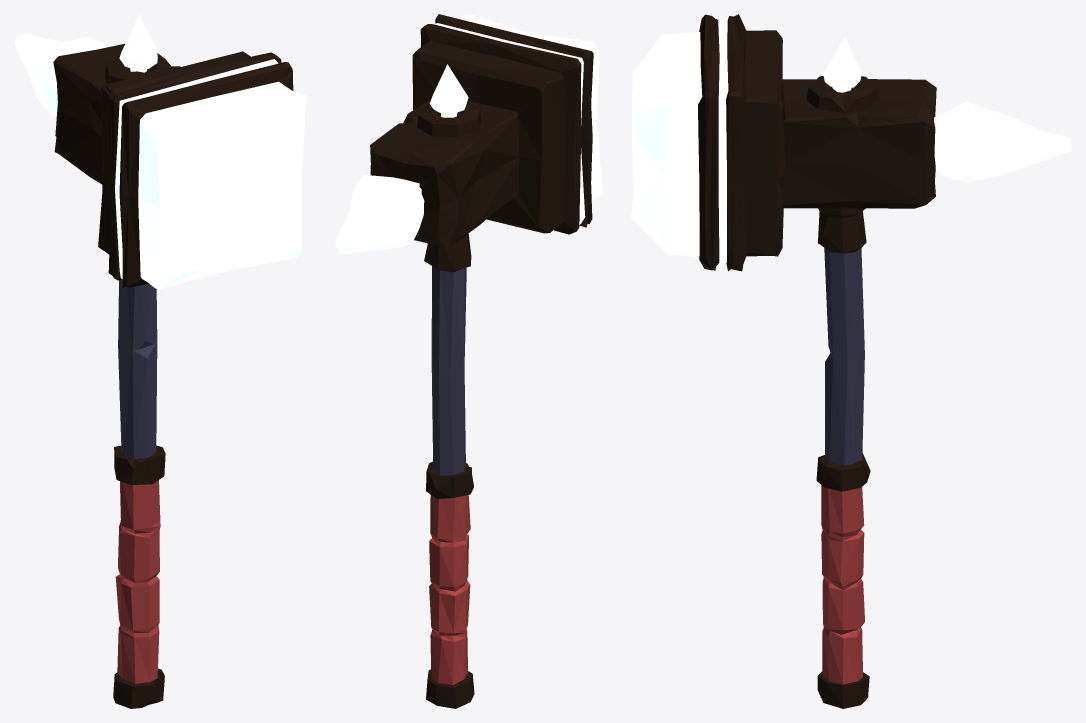
The model's file is SFFA_Weapon_Hammer_Runical_005.fbx.
3 views of the same model, side by side, from view 1: azimuth 30°, elevation 25°; view 2: azimuth 150°, elevation 25°; view 3: azimuth 270°, elevation 25° (orthographic). The views are drawn at different scales.
Visible parts, largest first — view 1: SFFA_Weapon_Hammer_Runical_005; view 2: SFFA_Weapon_Hammer_Runical_005; view 3: SFFA_Weapon_Hammer_Runical_005.
Boxes of the visible parts, x1,y1,x2,y2 form: SFFA_Weapon_Hammer_Runical_005: (14, 14, 306, 708); SFFA_Weapon_Hammer_Runical_005: (335, 14, 602, 708); SFFA_Weapon_Hammer_Runical_005: (631, 14, 1071, 708).
Bounding box in the file's own units: 19.93 × 76.81 × 46.09.
